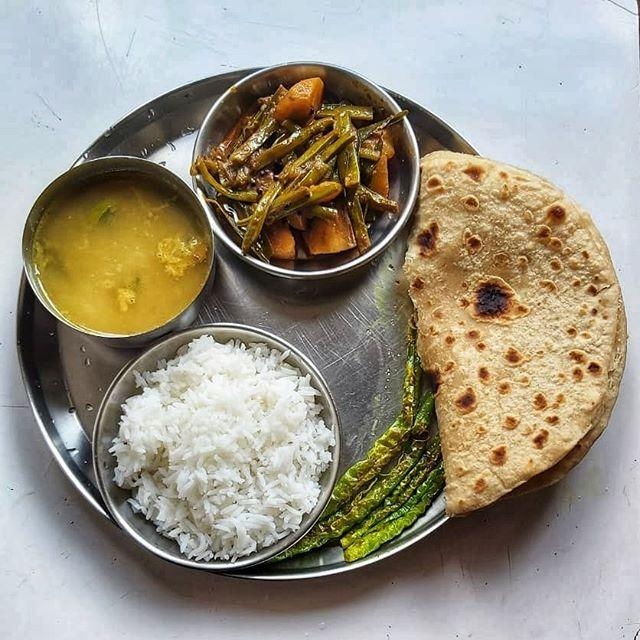Roti: (412, 153, 618, 512)
White Rice: (96, 343, 344, 564)
